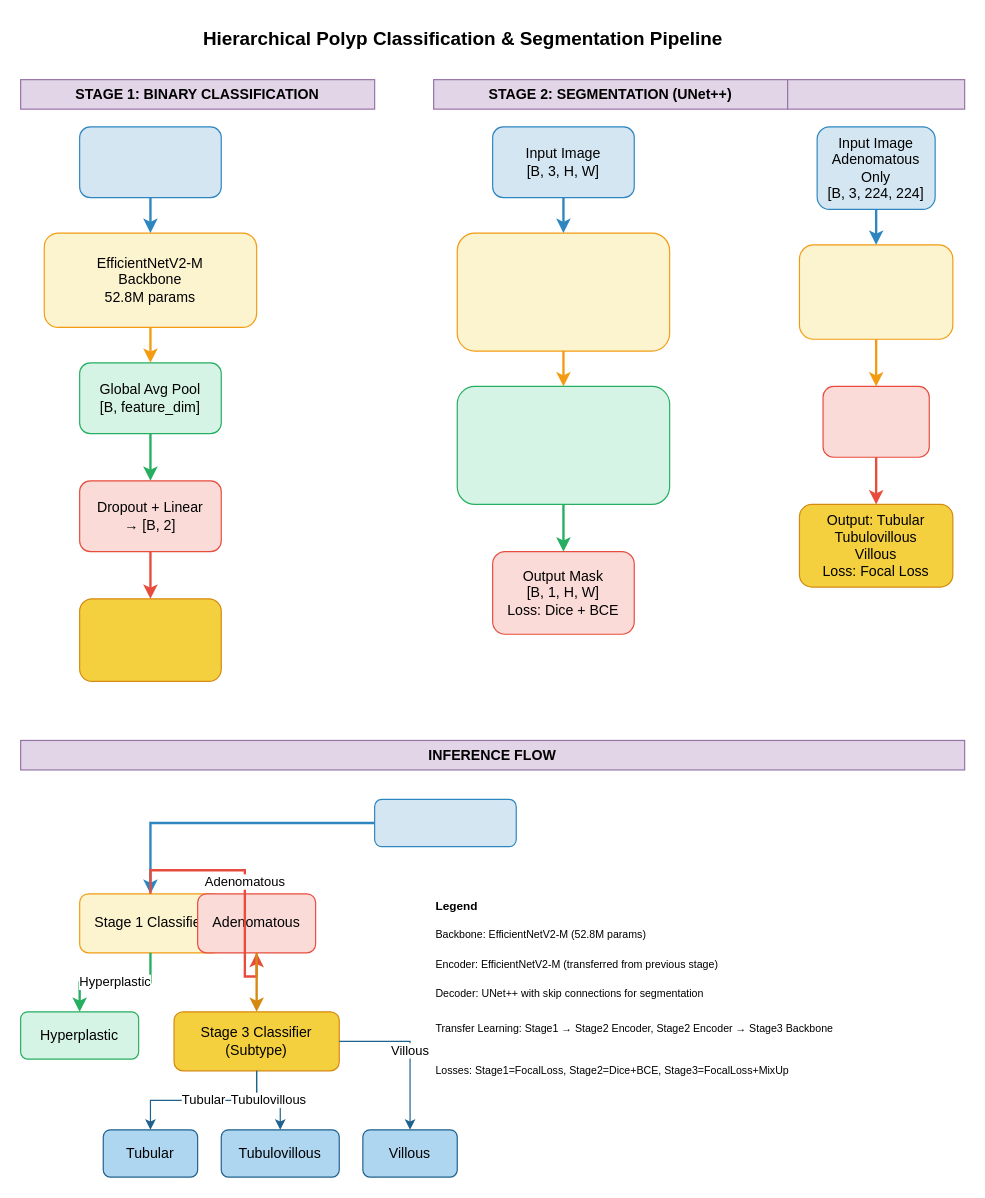
This 985x1198 diagram has some shape labels left out. The box of each missing label's shape, as (x1, y1, x2, y2) in pixels:
DECODER UNet++ Progressive Fusion Skip Connections: (456, 385, 670, 504)
Dropout + Linear → [B, 3]: (822, 385, 929, 457)
EfficientNetV2-M From Stage 2 52.8M params: (798, 244, 953, 339)
ENCODER EfficientNetV2-M (From Stage 1) Frozen/Trainable: (456, 232, 670, 351)
Input Image: (373, 798, 516, 847)
Input Image [B, 3, 224, 224]: (78, 126, 221, 198)
Output: Adenomatous or Hyperplastic Loss: Focal Loss: (78, 598, 221, 681)
STAGE 3: ADENOMA SUBTYPE: (786, 78, 965, 109)
